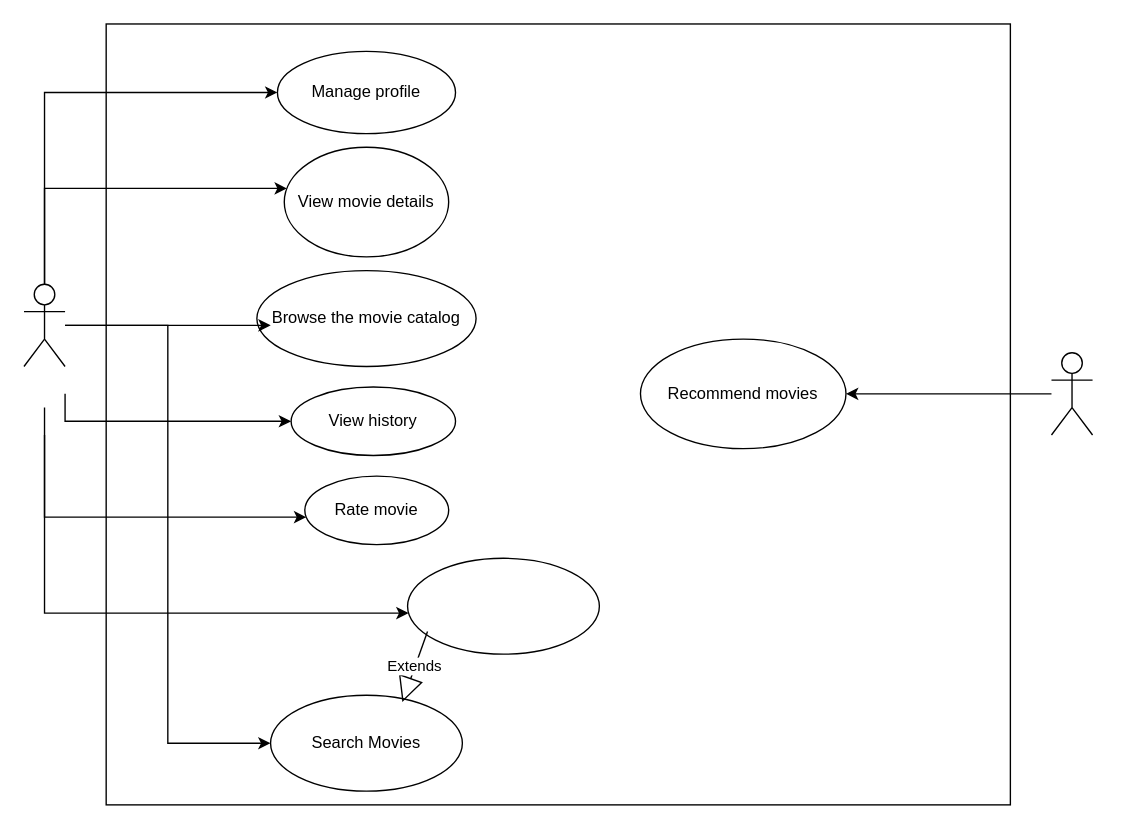
The diagram is 1125 pixels wide and 829 high, and some of its shapes have lost their labels. Here are the shapes that lost their labels. From the top down, the centre of each, then its label:
At point 44,324: "User".
At point 1071,393: "Sistema".
At point 502,605: "Filter movies".
